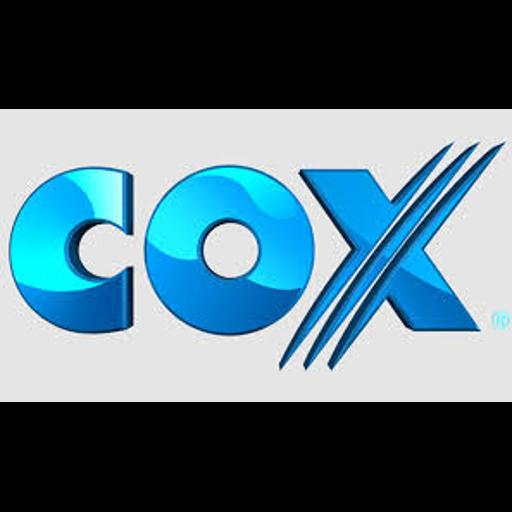Cox Communications: (0, 109, 512, 402)
